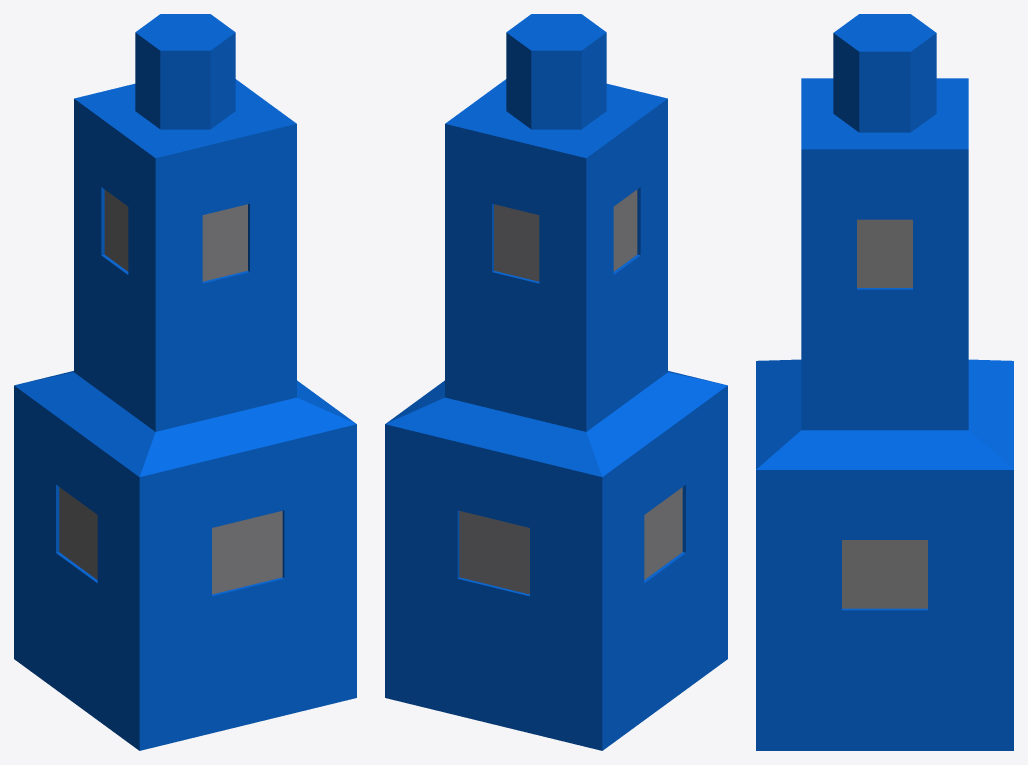
The model's file is BlueSkyscraper.fbx.
The picture shows the model from 3 angles, left to right: view 1: azimuth 30°, elevation 25°; view 2: azimuth 150°, elevation 25°; view 3: azimuth 270°, elevation 25°; orthographic projection. The views are drawn at different scales.
Parts seen in each view (by area): view 1: Building; view 2: Building; view 3: Building.
Boxes of the visible parts, <box> form: Building: <box>14,14,356,750</box>; Building: <box>385,14,727,750</box>; Building: <box>756,14,1013,750</box>.
Size of the model in its own units: 10 by 28.4 by 10.
